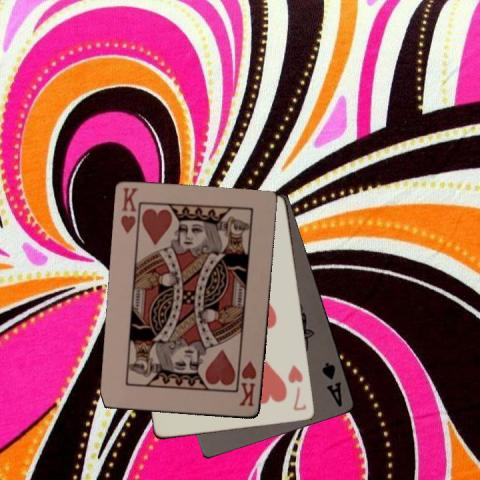7h: (285, 362, 308, 413)
As: (319, 359, 344, 409)
Kh: (118, 185, 140, 235), (237, 358, 258, 408)
